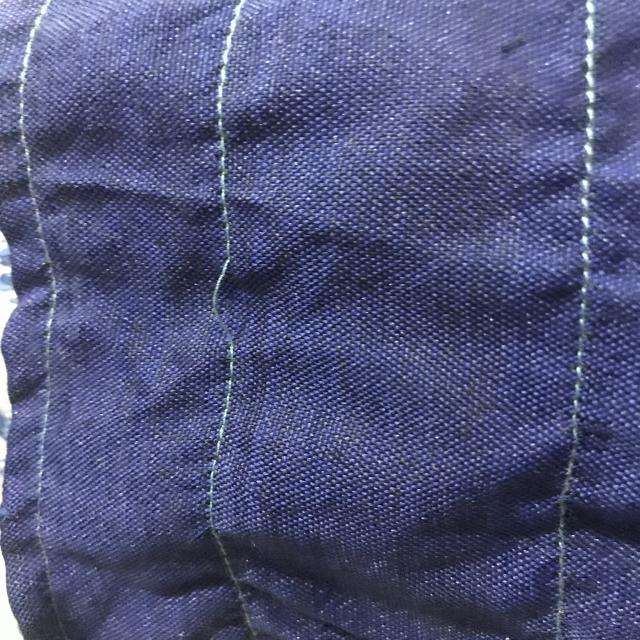good: (198, 103, 253, 213)
skip: (188, 247, 255, 354)
